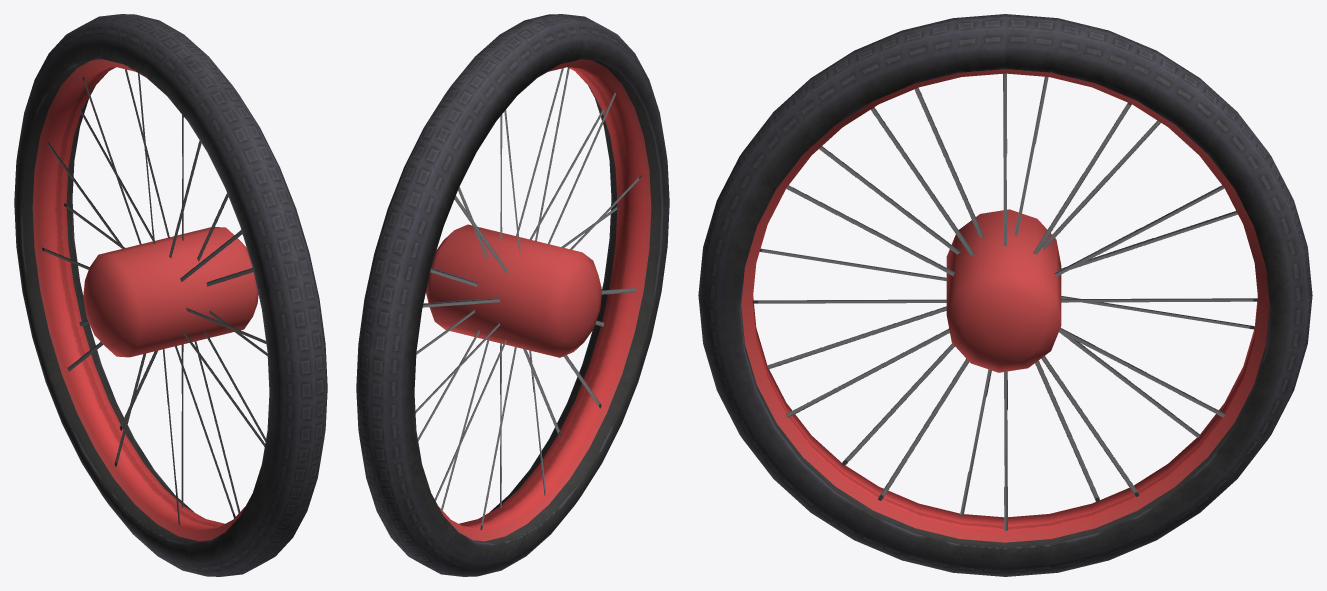
File: whe_#1_trasera.fbx
3 renders of one model, left to right at view 1: azimuth 30°, elevation 25°; view 2: azimuth 150°, elevation 25°; view 3: azimuth 270°, elevation 25°, orthographic. The views are drawn at different scales.
Parts seen in each view (by area): view 1: whe_#1_trasera; view 2: whe_#1_trasera; view 3: whe_#1_trasera.
Boxes of the visible parts, box(x1,y1,x2,y2) form: whe_#1_trasera: box(14, 14, 327, 576); whe_#1_trasera: box(356, 14, 669, 576); whe_#1_trasera: box(698, 14, 1312, 576).
Size of the model in its own units: 24.57 by 81.32 by 81.32.
